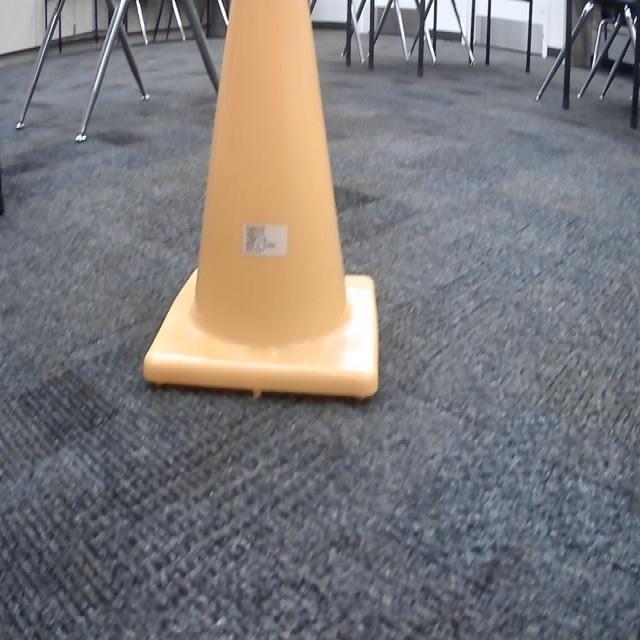cone: (142, 0, 379, 398)
